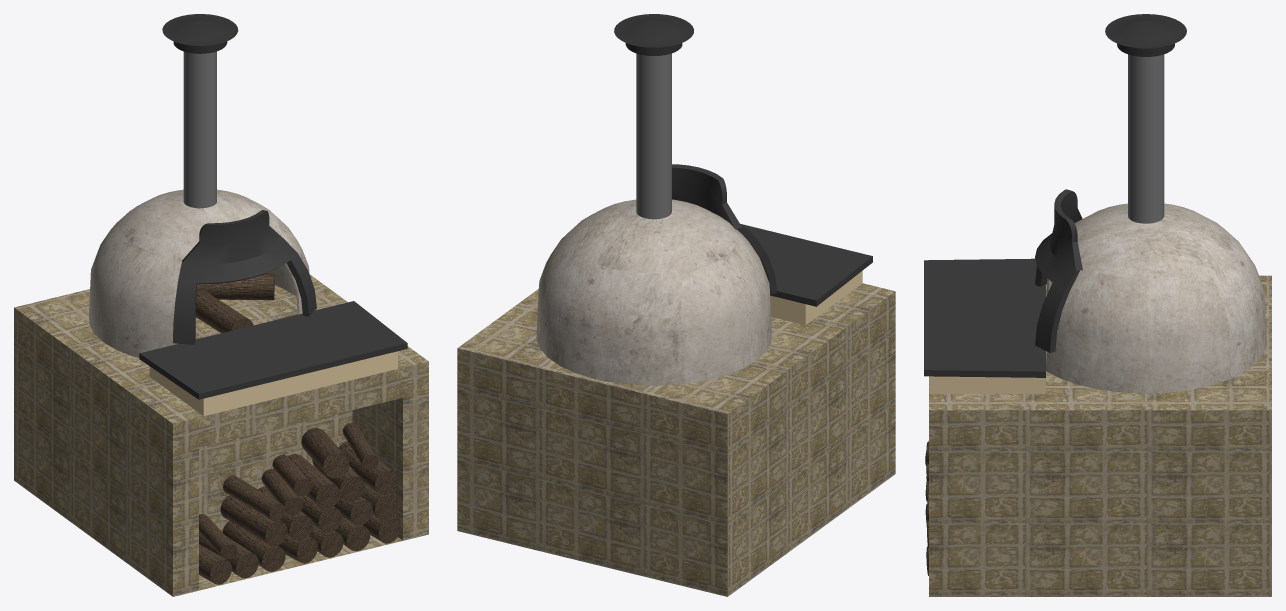
The model's file is Pizza_Ovenyenilenmis.fbx.
3 renders of one model, left to right at view 1: azimuth 30°, elevation 25°; view 2: azimuth 150°, elevation 25°; view 3: azimuth 270°, elevation 25°, orthographic. The views are drawn at different scales.
Visible parts, largest first — view 1: Sphere.002; view 2: Sphere.002; view 3: Sphere.002.
Part boxes in pixels (box(x1,y1,x2,y2)): Sphere.002: box(14, 14, 428, 596); Sphere.002: box(457, 14, 895, 596); Sphere.002: box(924, 14, 1271, 596).
Size of the model in its own units: 180 by 317 by 196.
